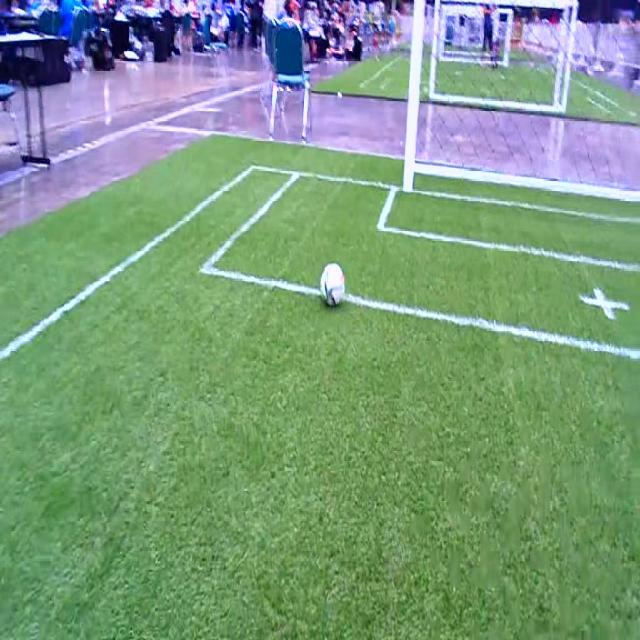ball: (320, 264, 344, 306)
